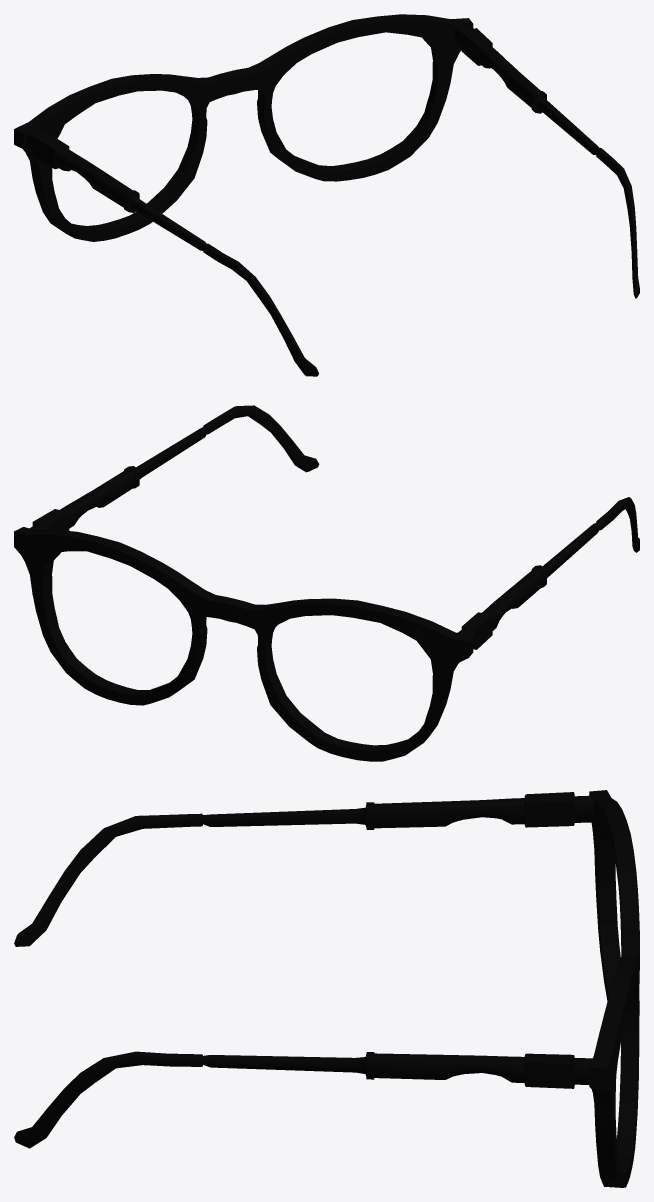
File: glasses5.fbx
3 views of the same model, one above another, from view 1: azimuth 30°, elevation 25°; view 2: azimuth 150°, elevation 25°; view 3: azimuth 270°, elevation 25° (orthographic). The views are drawn at different scales.
Visible parts, largest first — view 1: node_id31, node_id17, node_id29, node_id11; view 2: node_id31, node_id29, node_id17, node_id11; view 3: node_id31, node_id17, node_id29, node_id23, node_id9.
Part boxes in pixels (left/top/right/bottom): node_id31: left=14, top=14, right=473, bottom=241; node_id17: left=27, top=128, right=318, bottom=376; node_id29: left=454, top=24, right=639, bottom=298; node_id11: left=32, top=132, right=68, bottom=169; node_id31: left=14, top=527, right=473, bottom=761; node_id29: left=30, top=405, right=319, bottom=530; node_id17: left=458, top=497, right=639, bottom=647; node_id11: left=462, top=612, right=492, bottom=649; node_id31: left=589, top=790, right=639, bottom=1187; node_id17: left=14, top=795, right=593, bottom=946; node_id29: left=14, top=1051, right=592, bottom=1148; node_id23: left=525, top=1053, right=573, bottom=1088; node_id9: left=525, top=801, right=573, bottom=827.
Bounding box in the file's own units: 0.512 × 0.1649 × 0.4859.
Materials: 13 (13 with a texture image).
